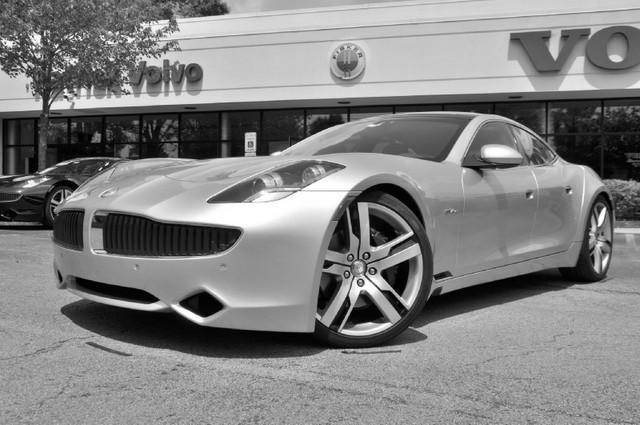car: (53, 113, 614, 350)
